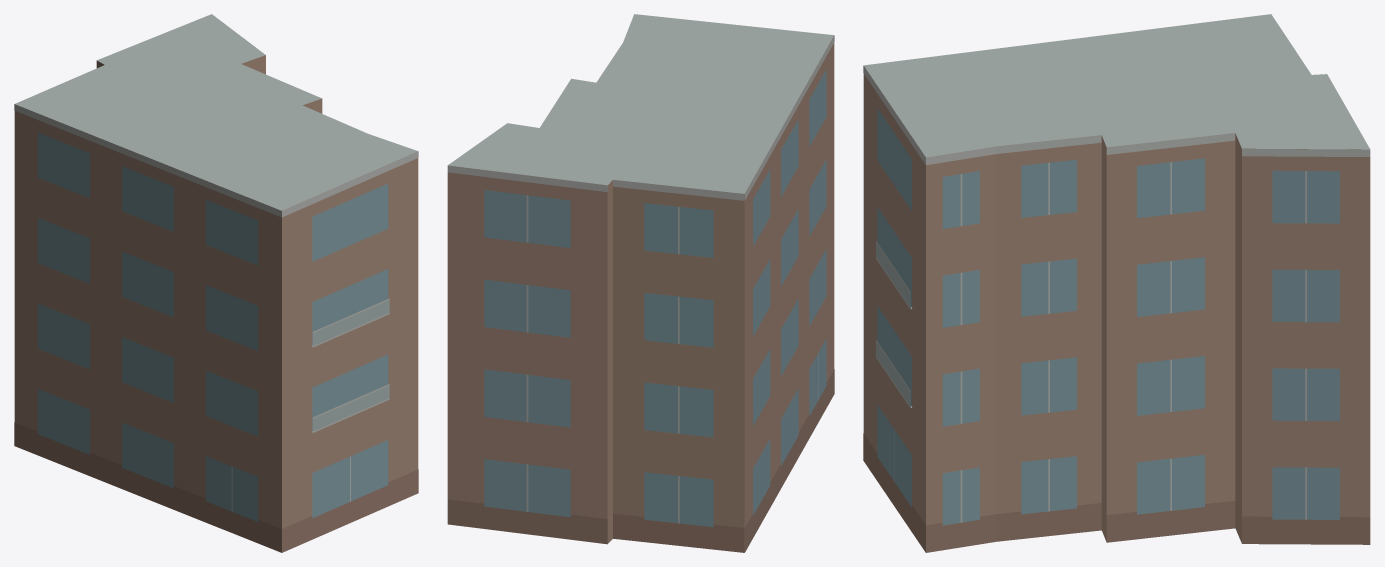
Rendered from survey-upis-32673972.glb.
The picture shows the model from 3 angles, left to right: view 1: azimuth 30°, elevation 25°; view 2: azimuth 150°, elevation 25°; view 3: azimuth 270°, elevation 25°; orthographic projection. The views are drawn at different scales.
Visible parts, largest first — view 1: survey-upis-32673972.tmp; view 2: survey-upis-32673972.tmp; view 3: survey-upis-32673972.tmp.
Boxes of the visible parts, box(x1,y1,x2,y2) form: survey-upis-32673972.tmp: box(14, 14, 418, 552); survey-upis-32673972.tmp: box(447, 14, 834, 552); survey-upis-32673972.tmp: box(863, 14, 1370, 552).
Size of the model in its own units: 9.91 by 12.7 by 14.77.
